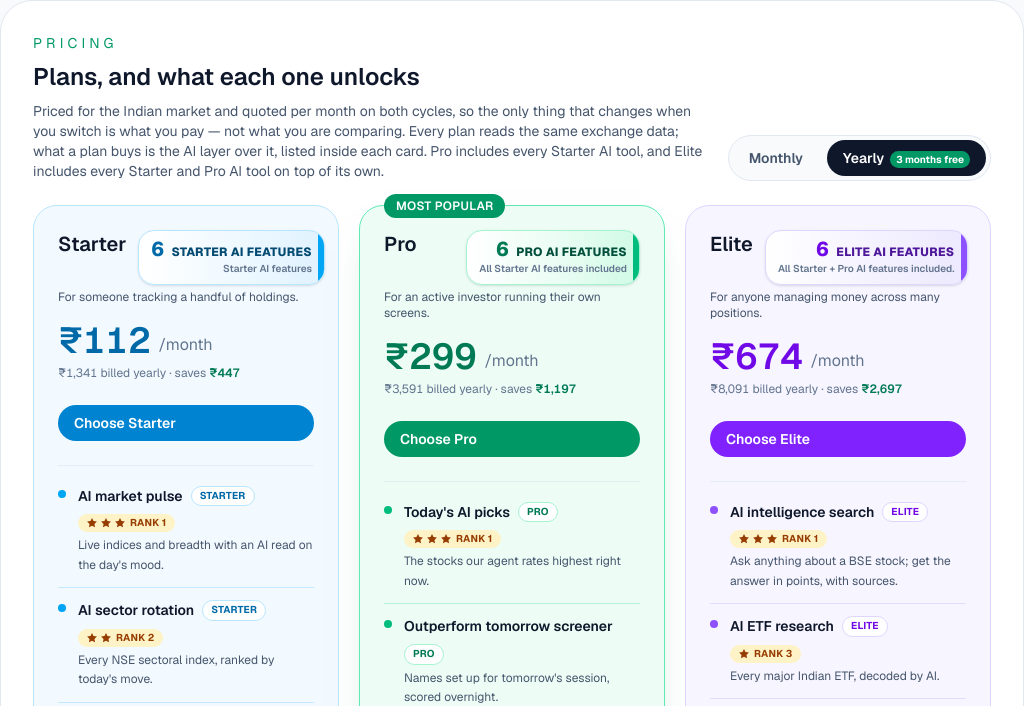
it: PricingPlans › switches every plan to the monthly rate together
The width and height of the screenshot is (1024, 706).
Click the button "Monthly": (776, 158) [733,140,819,176]
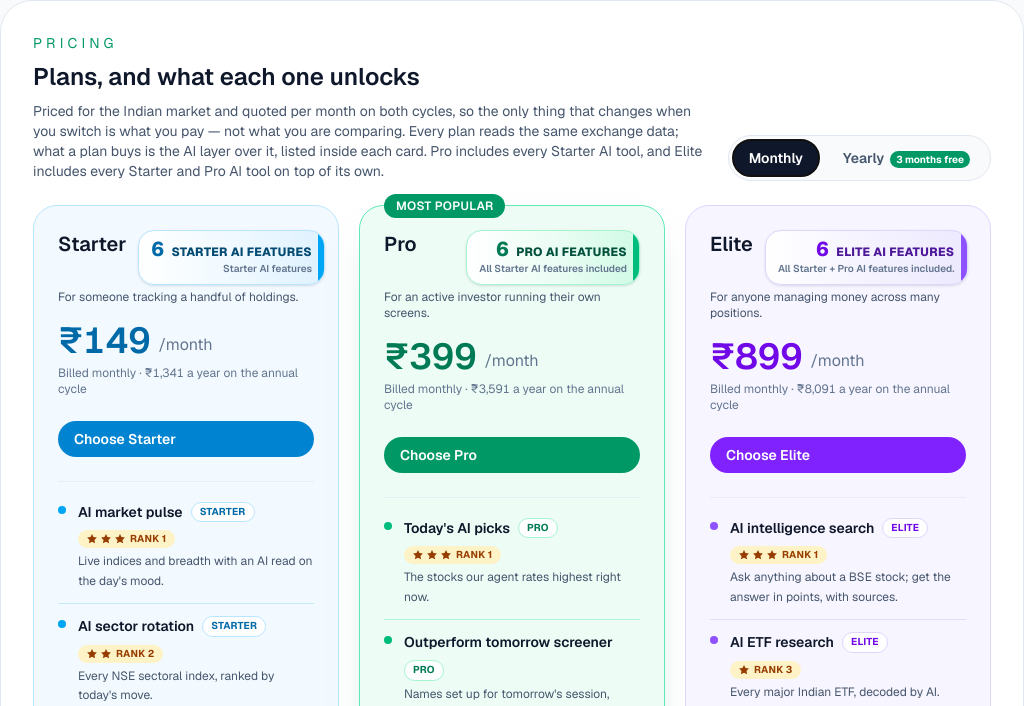
expect the text "₹149" is shown: met, box [58,321,151,361]
expect the text "Billed monthly · ₹1,341 a year on the annual cycle" is shown: met, box [58,365,314,397]
expect the text "₹399" is shown: met, box [384,337,477,377]
